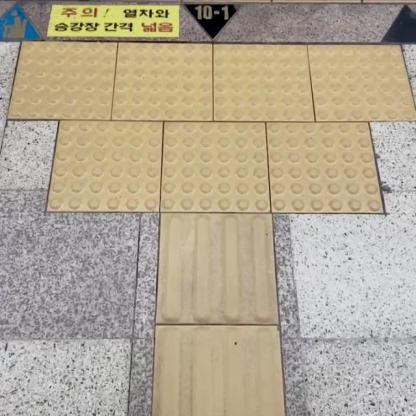podotacti: (6, 43, 416, 122), (45, 121, 378, 214), (156, 217, 284, 416)
